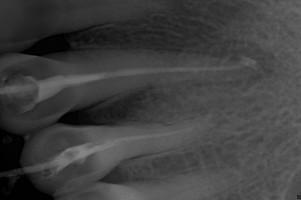Furcation Involvement: (209, 40, 285, 91)
